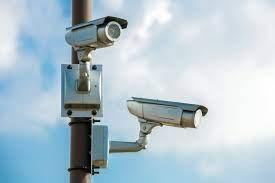------------------------------: (123, 92, 210, 132), (58, 15, 130, 52)
